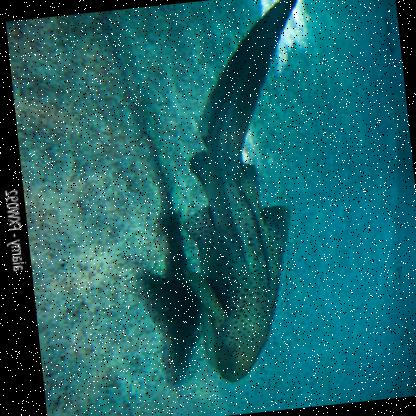zebra_shark: (135, 0, 360, 397)
